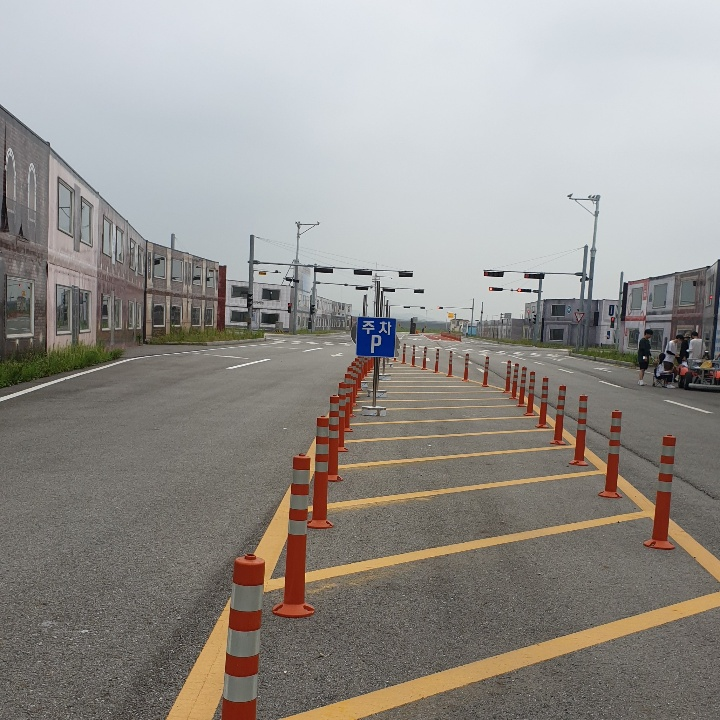parking: (364, 330, 384, 351)
